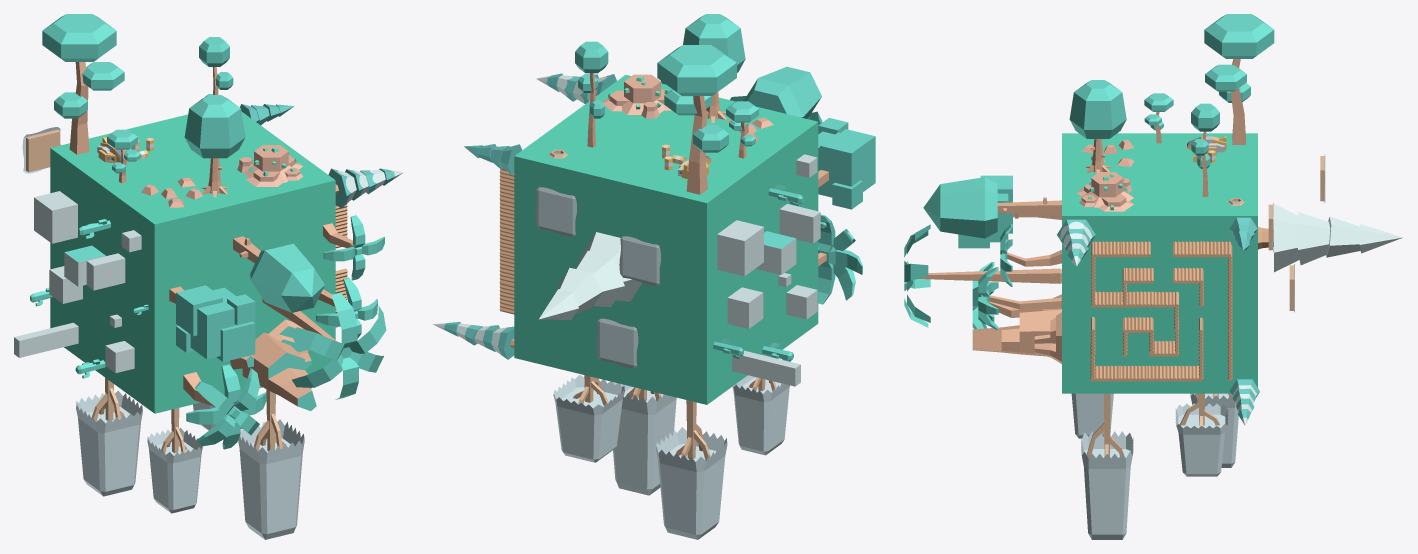
The model's file is game-world.fbx.
3 renders of one model, left to right at view 1: azimuth 30°, elevation 25°; view 2: azimuth 150°, elevation 25°; view 3: azimuth 270°, elevation 25°, orthographic. The views are drawn at different scales.
Parts seen in each view (by area): view 1: pasted__cactus_short; view 2: pasted__cactus_short; view 3: pasted__cactus_short.
Boxes of the visible parts, <box> form: pasted__cactus_short: <box>14,14,403,539</box>; pasted__cactus_short: <box>433,14,875,539</box>; pasted__cactus_short: <box>904,14,1403,539</box>.
Size of the model in its own units: 36.2 by 51.78 by 51.5.
